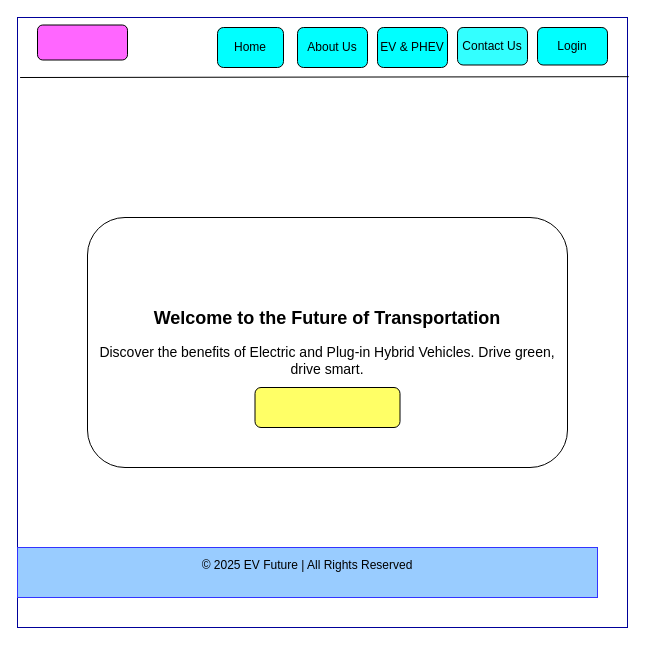
This 648x645 diagram has some shape labels left out. Here are the shapes that lost their labels. From the top down, the centre of each, then its label:
At point (82, 42): "Logo".
At point (327, 407): "Learn More".
